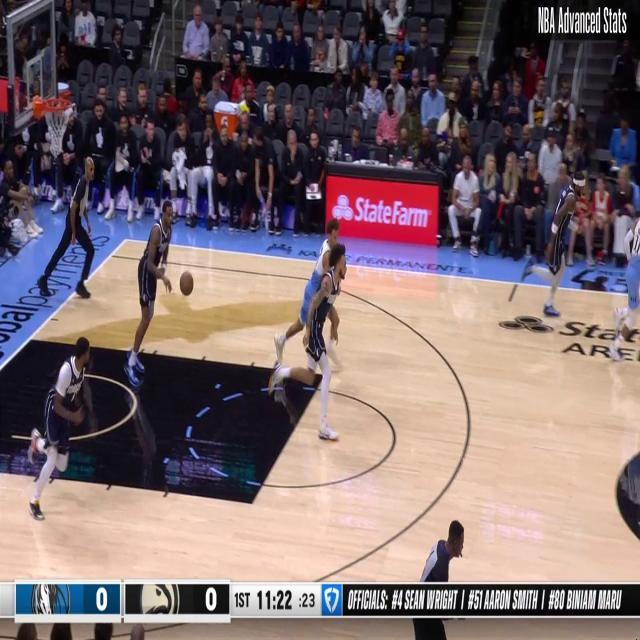ball: (176, 266, 198, 304)
player: (267, 240, 349, 443), (26, 334, 92, 523), (520, 164, 586, 324), (122, 197, 176, 390), (274, 220, 344, 360), (612, 211, 640, 361)
